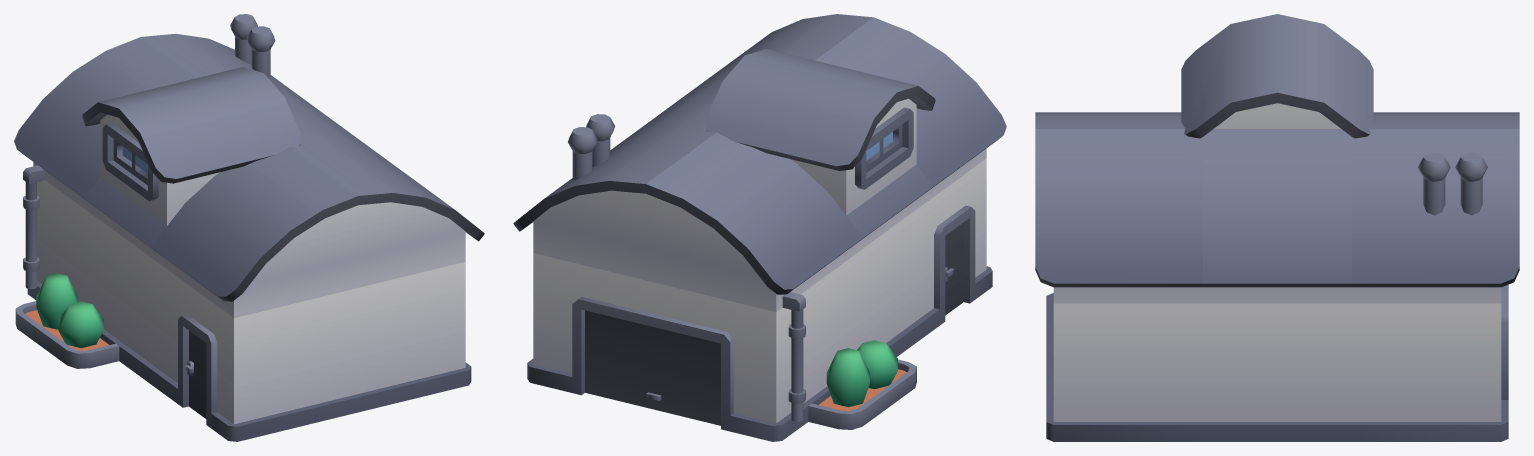
Rendered from building-j.glb.
The picture shows the model from 3 angles, left to right: view 1: azimuth 30°, elevation 25°; view 2: azimuth 150°, elevation 25°; view 3: azimuth 270°, elevation 25°; orthographic projection. The views are drawn at different scales.
Visible parts, largest first — view 1: building-j; view 2: building-j; view 3: building-j.
Part boxes in pixels (<box>): building-j: <box>14,14,484,441</box>; building-j: <box>513,14,1006,441</box>; building-j: <box>1035,14,1519,441</box>.
Size of the model in its own units: 1.03 by 0.8612 by 1.3.
1 material, 1 textured.
